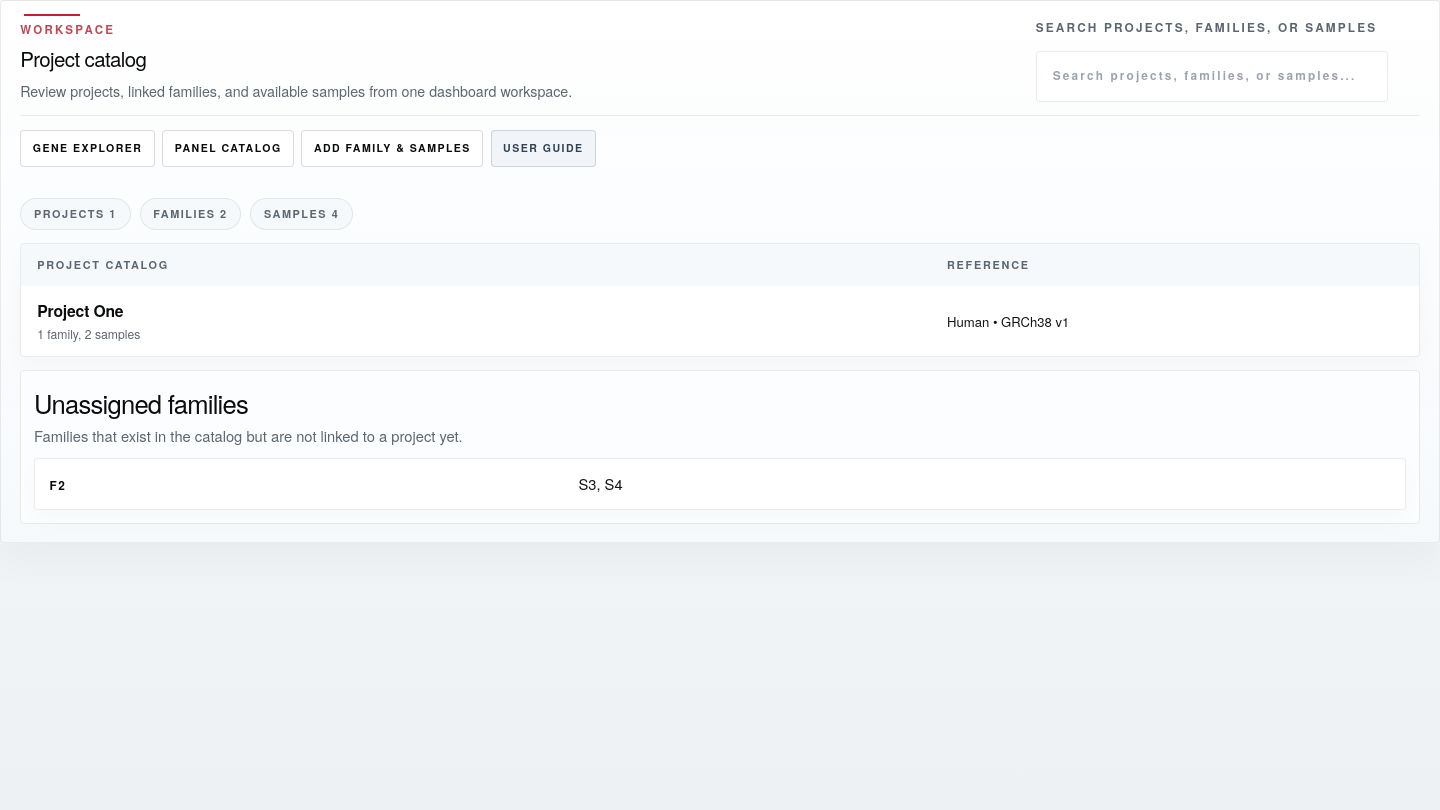
Scenario: Dashboard admin section › uses a consistent nested family table column layout for project details
Click the button "Project One 1 family, 2 samples". click: (80, 310)
box: [37, 299, 915, 343]
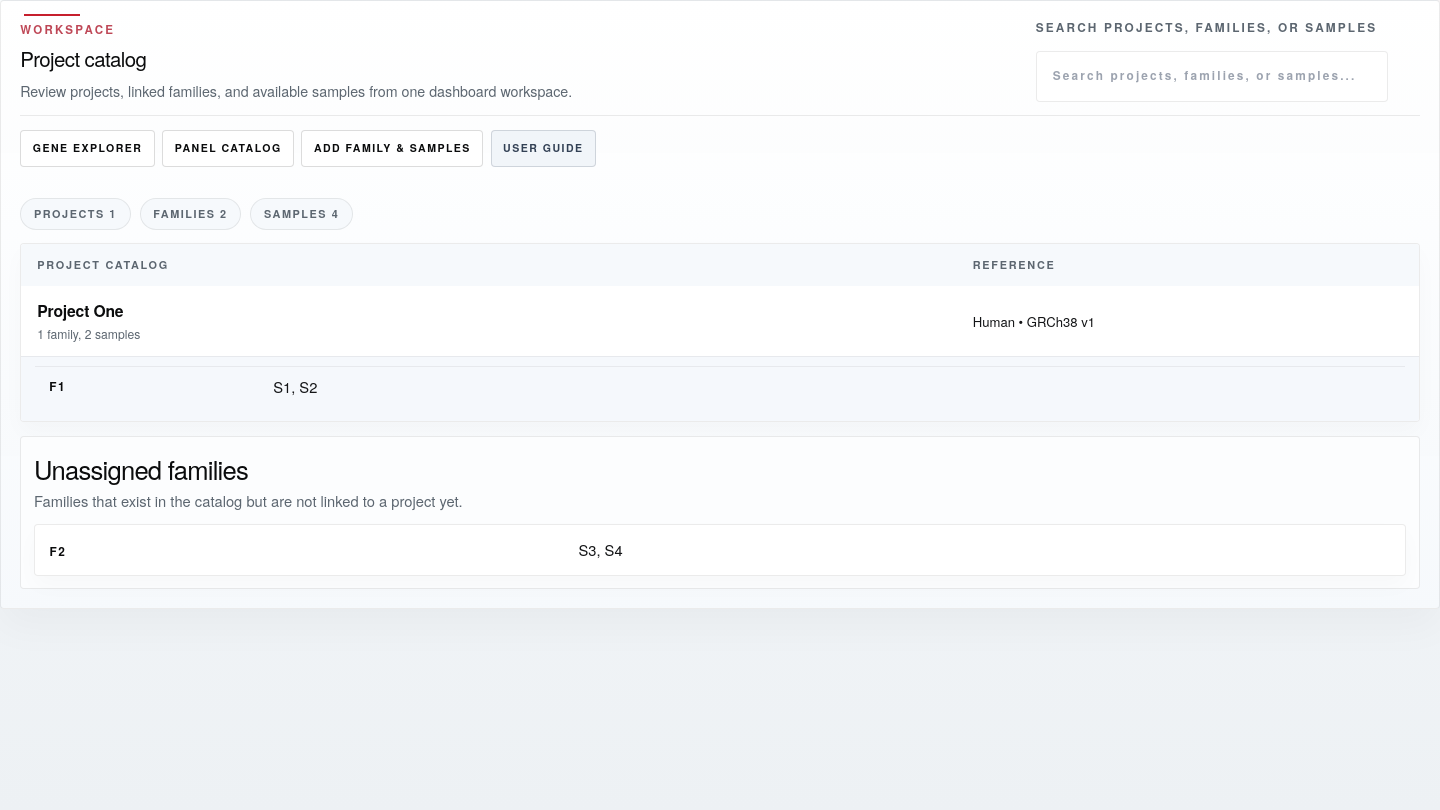
Expected: the table "F1" is shown, [35, 366, 1405, 408]
